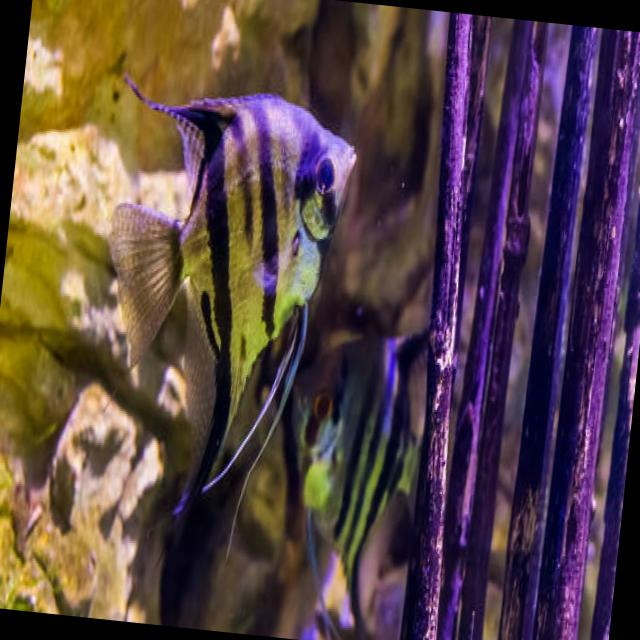AngelFish: (78, 72, 359, 520), (272, 318, 430, 616)
